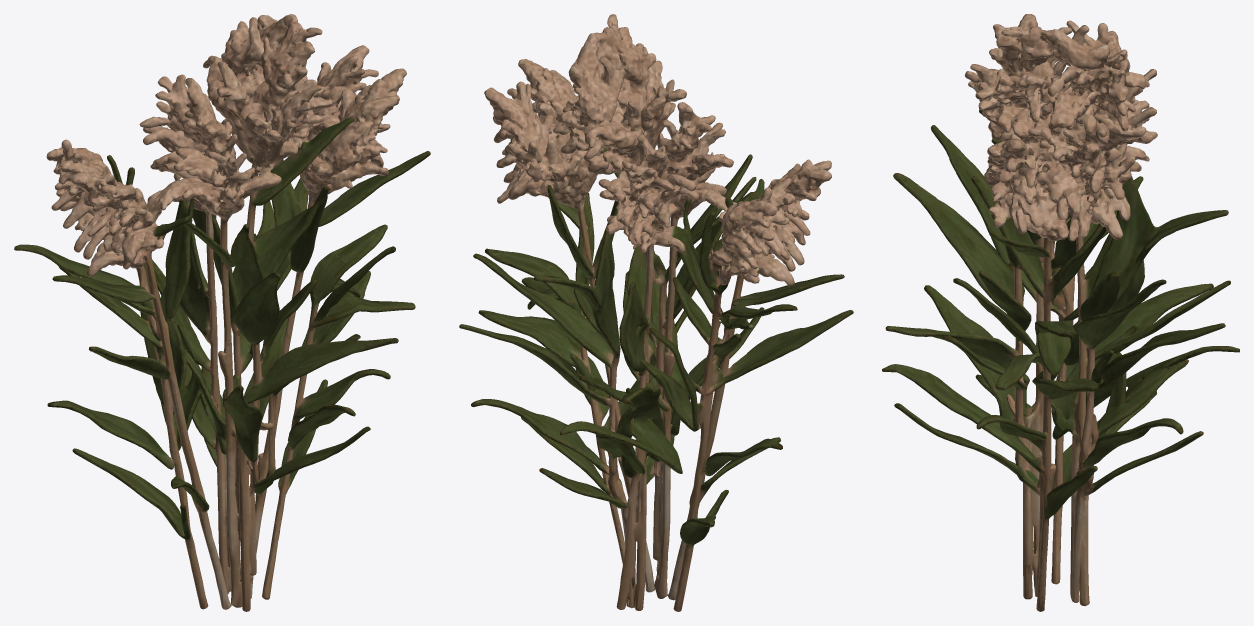
The model's file is common-reed-cluster-v21.glb.
3 renders of one model, left to right at view 1: azimuth 30°, elevation 25°; view 2: azimuth 150°, elevation 25°; view 3: azimuth 270°, elevation 25°, orthographic. The views are drawn at different scales.
Parts seen in each view (by area): view 1: world; view 2: world; view 3: world.
Part boxes in pixels (x1,y1,x2,y2): world: (14,14,430,611); world: (459,14,853,611); world: (882,14,1239,611).
Size of the model in its own units: 0.782 by 1.2 by 0.6488.
1 material, 1 textured.
